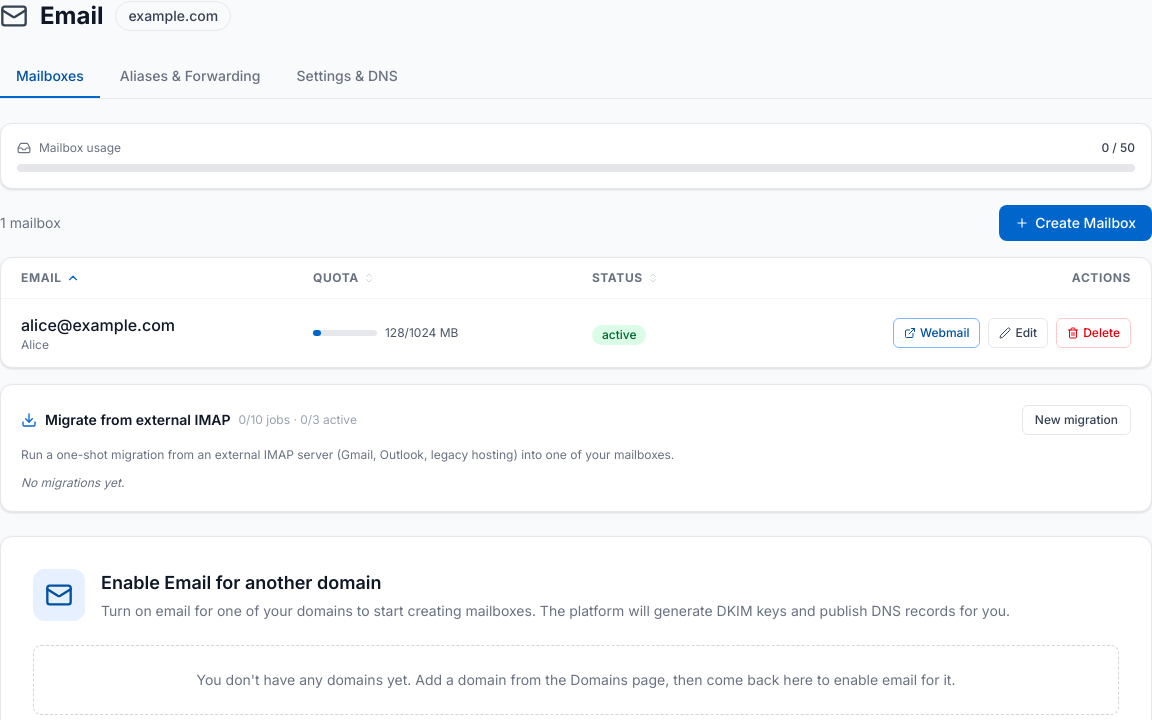
Scenario: Email Page › opens the edit modal when the Edit button is clicked
Click the button with test id "edit-mailbox-mb-1".
click(1018, 333)  # box [988,318,1048,348]
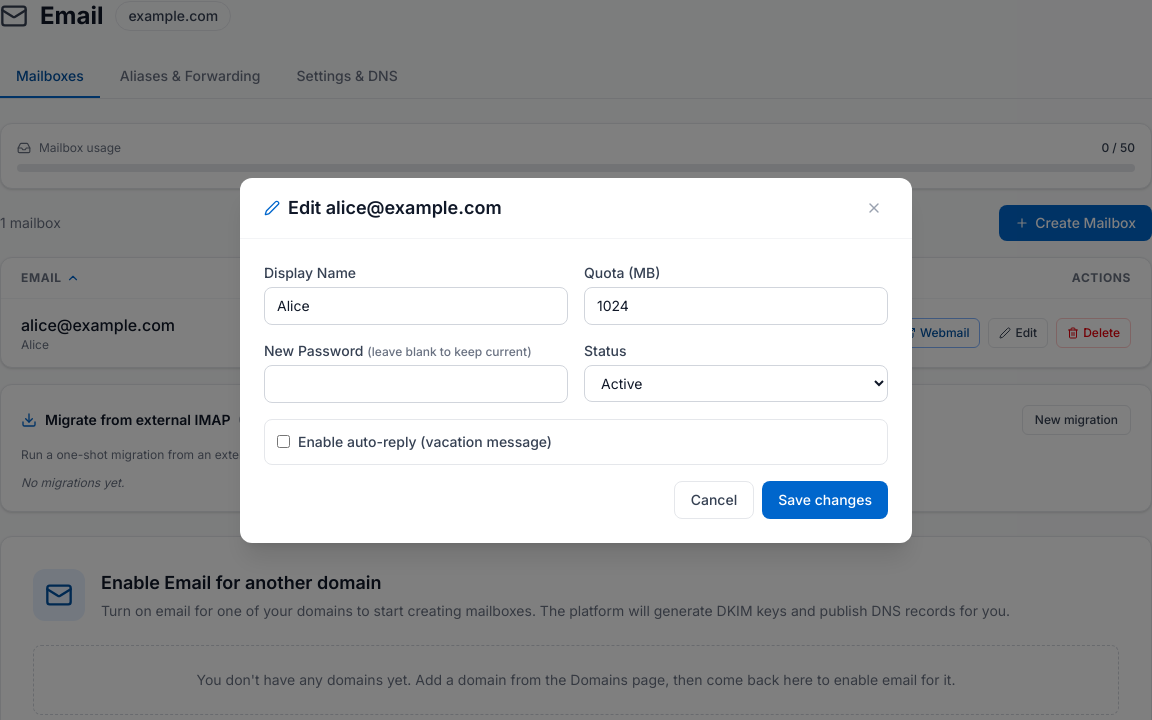
Check: the element with test id "edit-mailbox-modal" is shown, box [240,178,912,542]
Check: the field with test id "edit-mailbox-display-name" holds "Alice", box [264,286,568,324]
Check: the number field with test id "edit-mailbox-quota" holds "1024", box [584,286,888,324]
